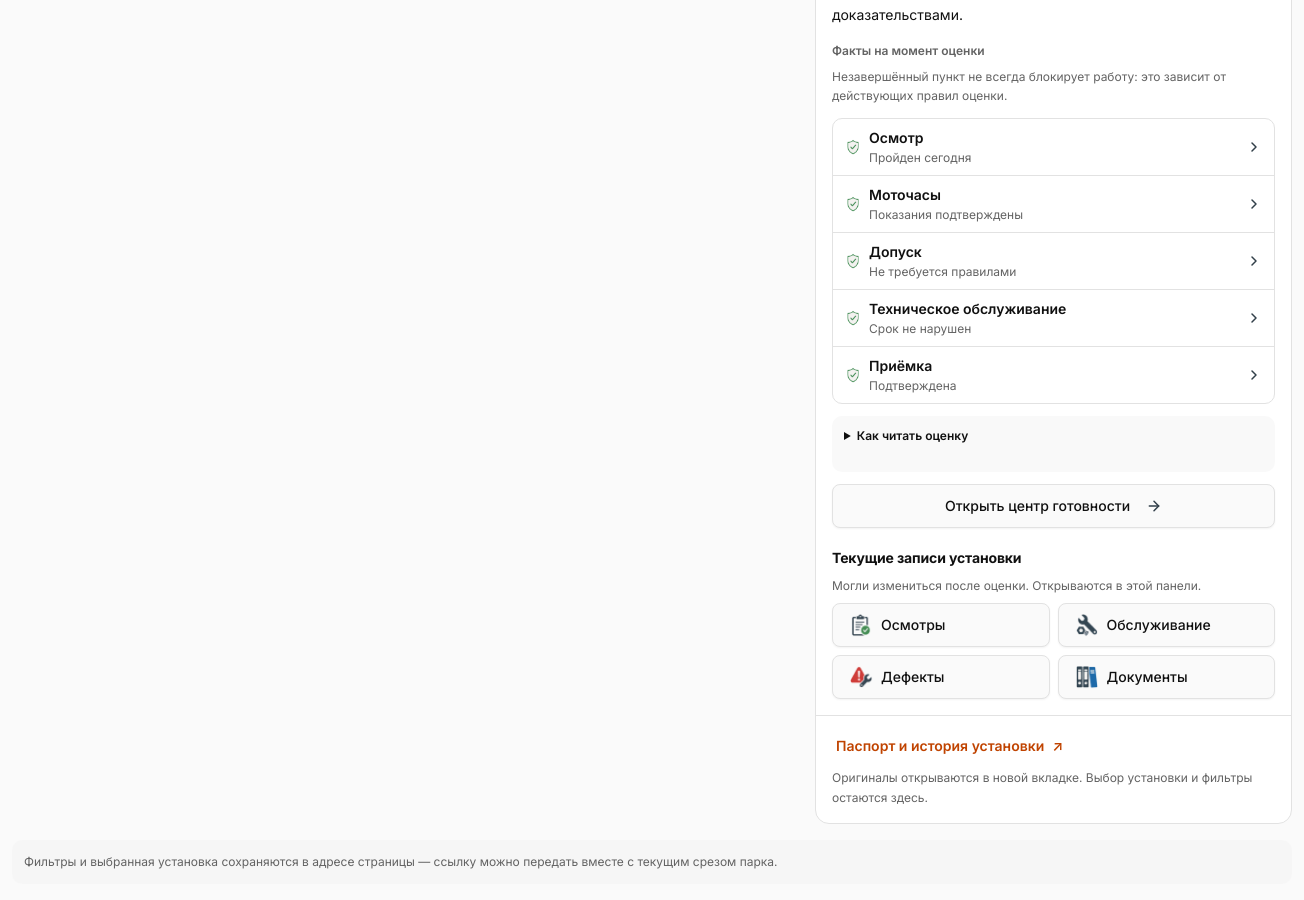
it: Панель парка: сбой журнала не скрывает записи обслуживания (F-N1005) › показывает и запись обслуживания, и ошибку журнала
(page scrolled)
Click the button "Обслуживание": point(1166, 625) [1058,603,1275,647]
(page scrolled)
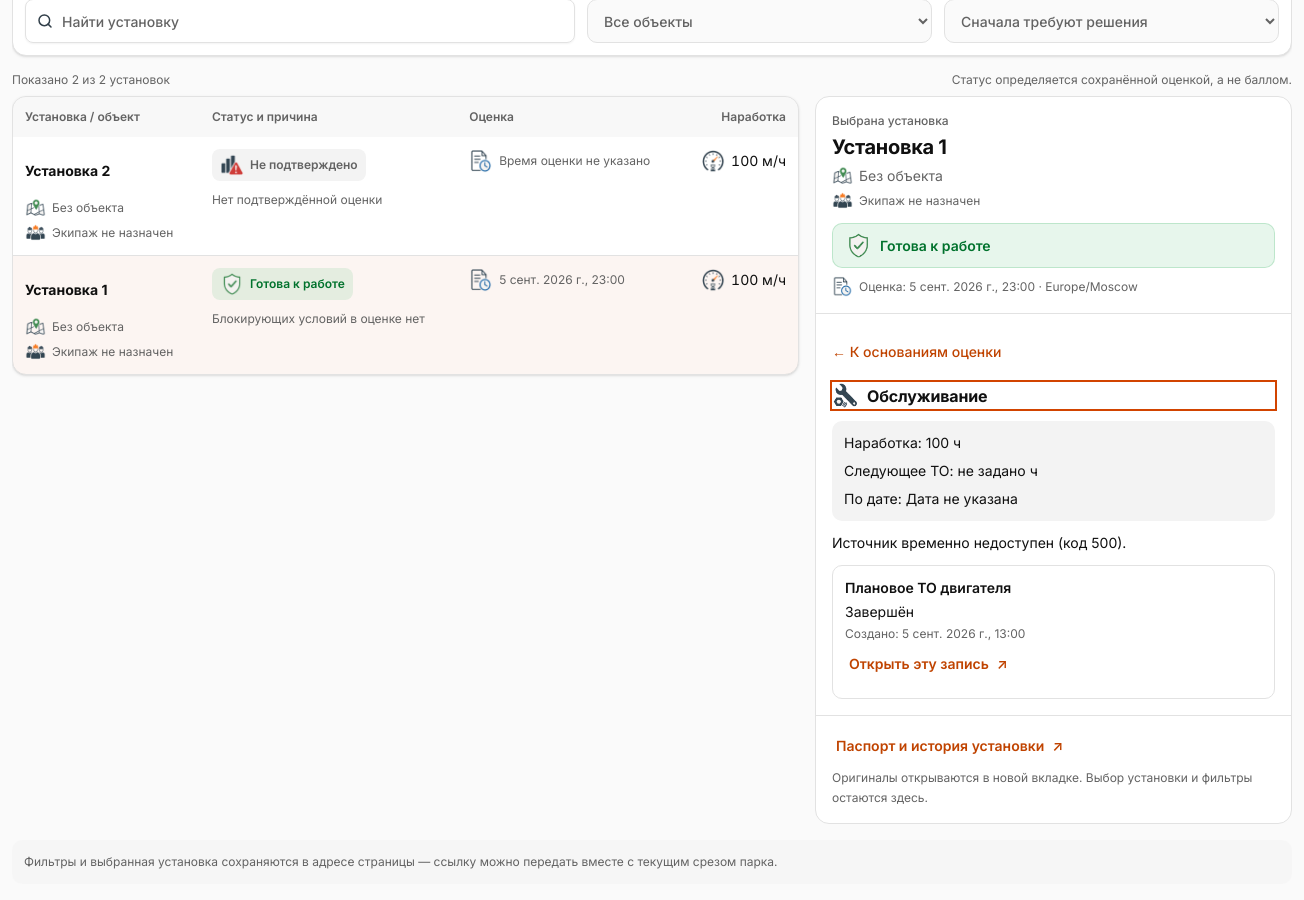
expect the text "Плановое ТО двигателя" is shown: met, box [845,579,1011,596]
expect the message "Источник временно недоступен (код 500)." is shown: met, box [832,534,1126,551]
